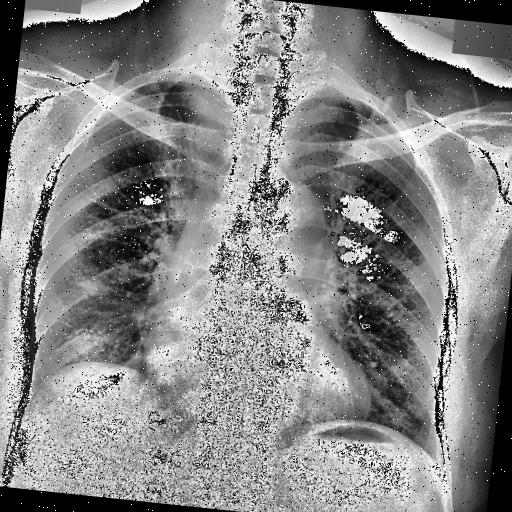0- Aortic enlargement: (255, 176, 331, 266), (252, 180, 330, 256), (262, 180, 328, 266)
3- Cardiomegaly: (136, 319, 376, 423), (140, 330, 378, 428), (138, 334, 376, 422)
